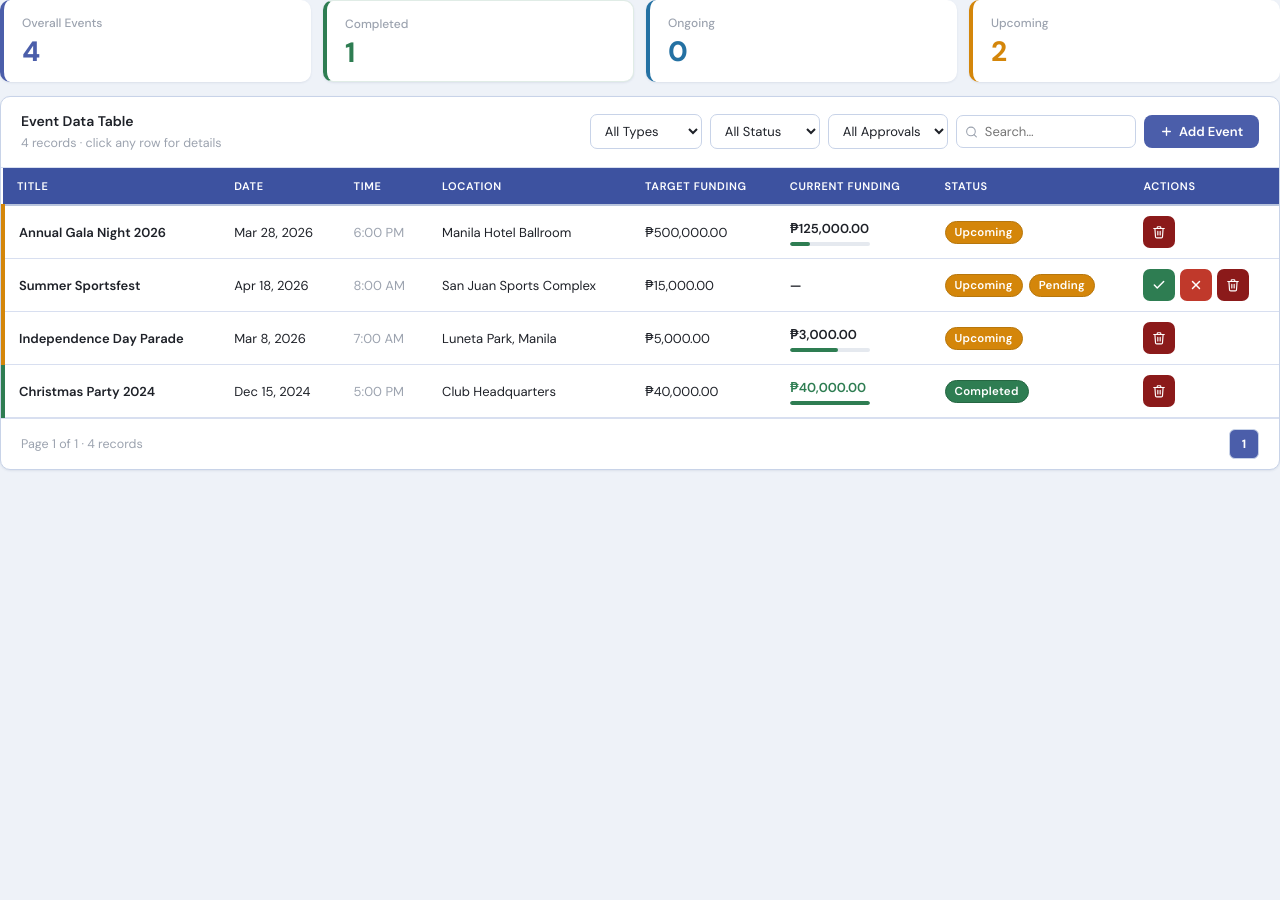
Test: Events › delete asks first, then removes the row with feedback
Click the button named "Delete" in the row of "Annual Gala Night 2026". click: coordinates (1160, 232)
box: [1144,216,1176,248]
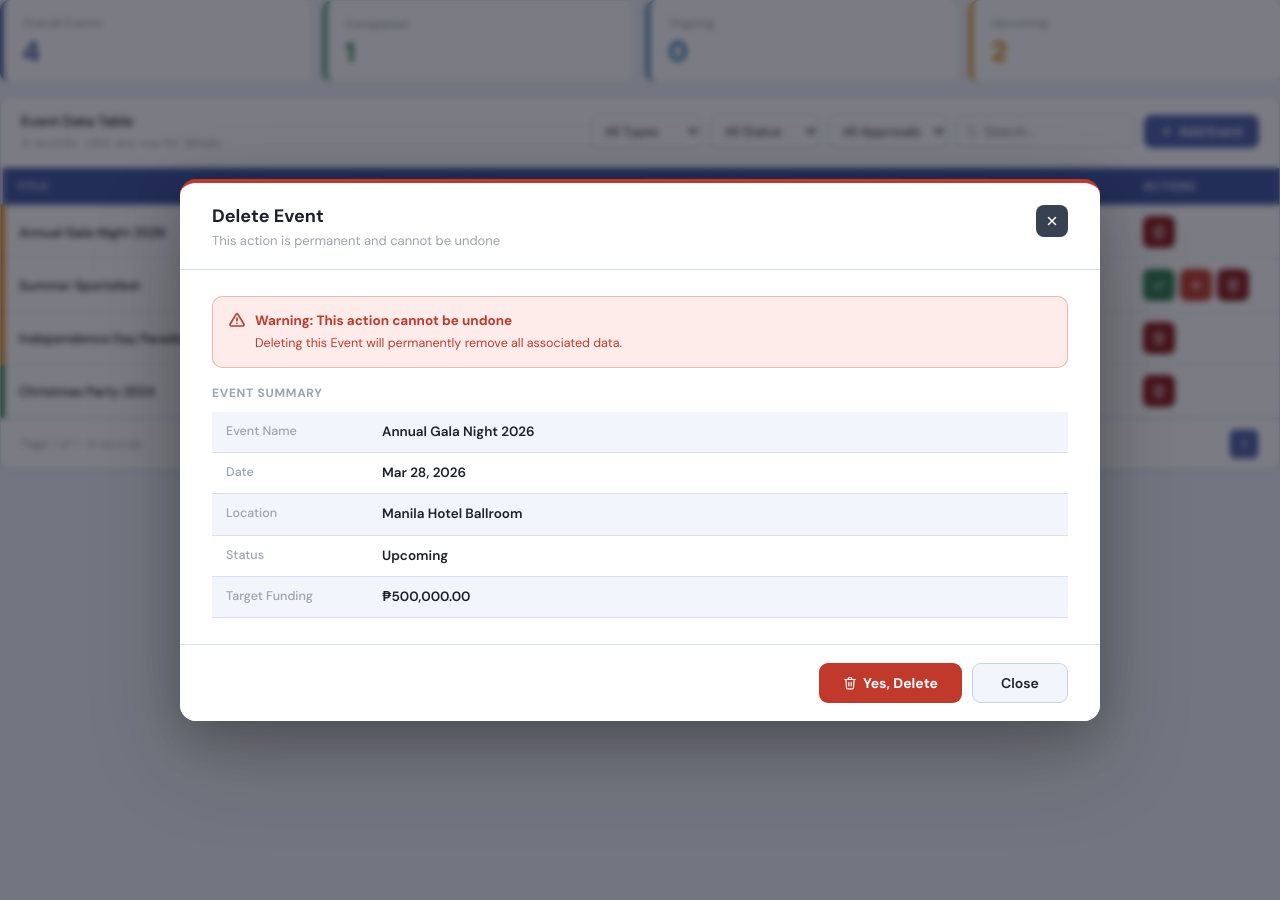
Now the text "Delete Event" is shown, box [212,205,324,227]
Click the button "Yes, Delete". click: coordinates (891, 683)
box: [819,663,962,703]
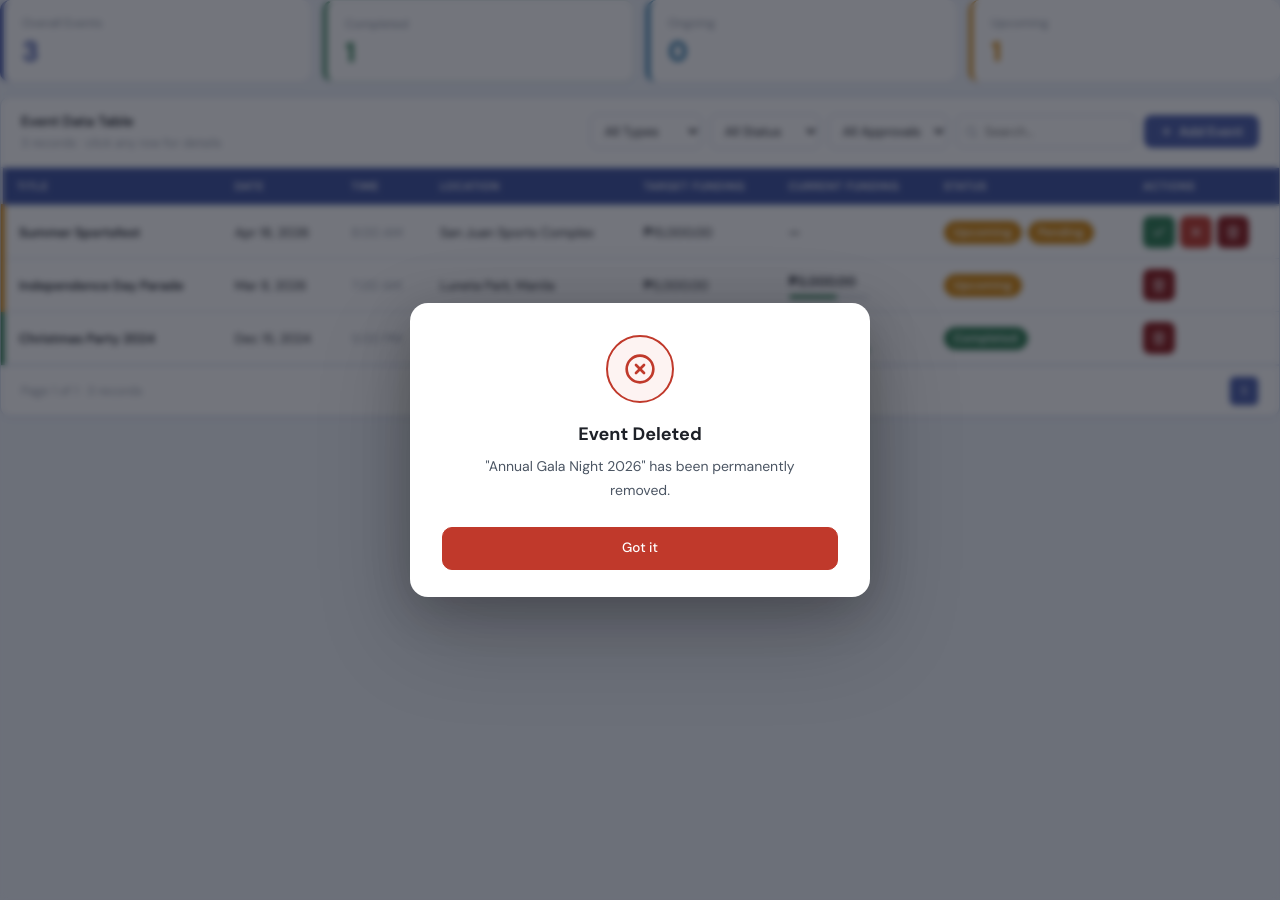
Now the text "\"Annual Gala Night 2026\" has been permanently removed." is shown, box [470,455,810,503]
